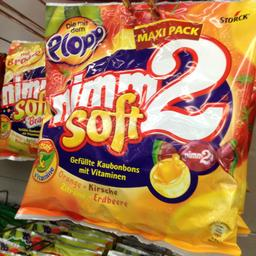candy: (47, 4, 248, 244)
